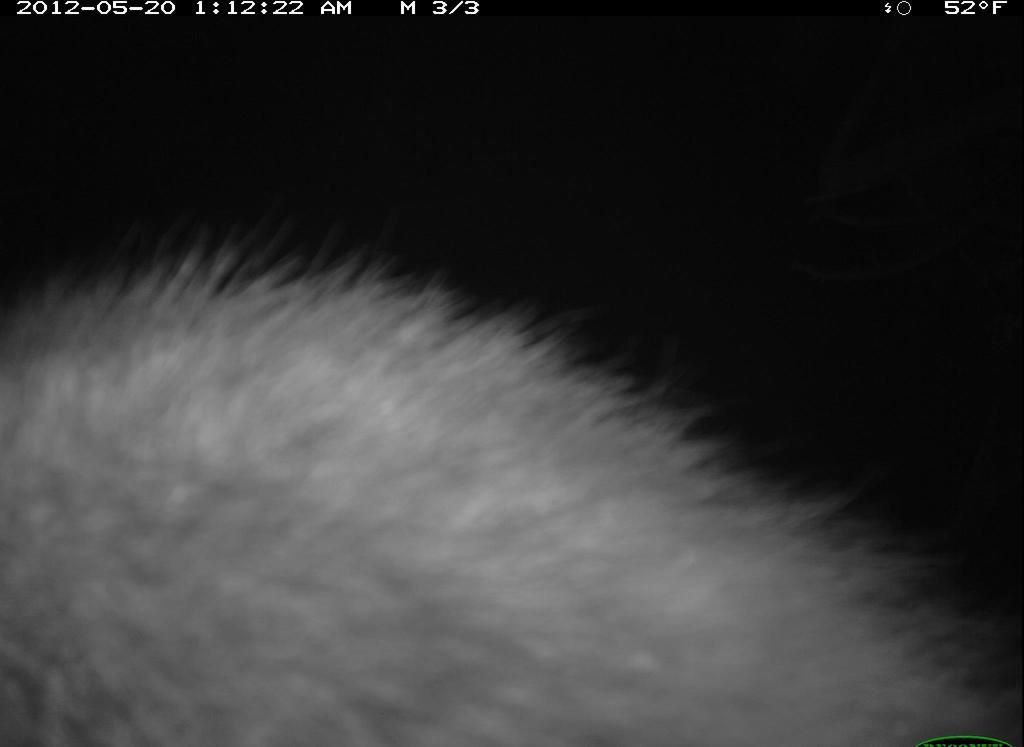raccoon: (2, 225, 1022, 747)
